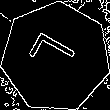L_SE: (26, 31, 85, 83)
